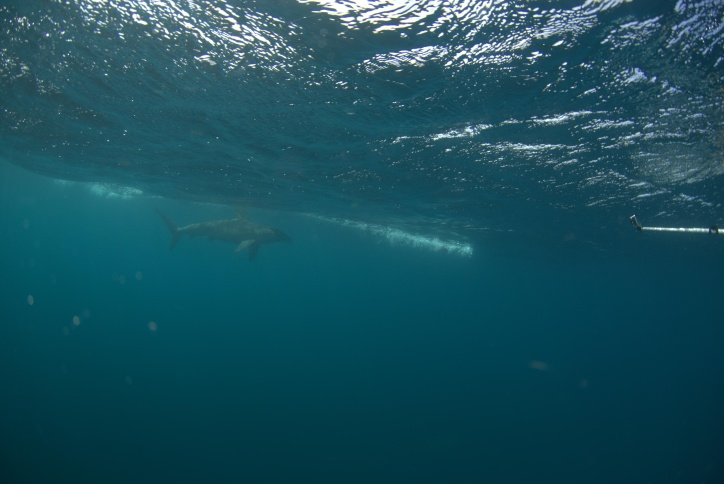Hammer: (129, 189, 299, 275)
